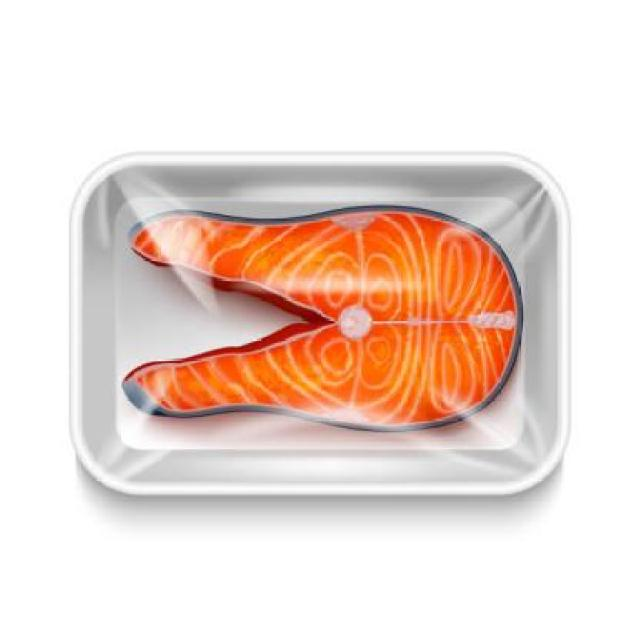salmon: (120, 186, 524, 440)
